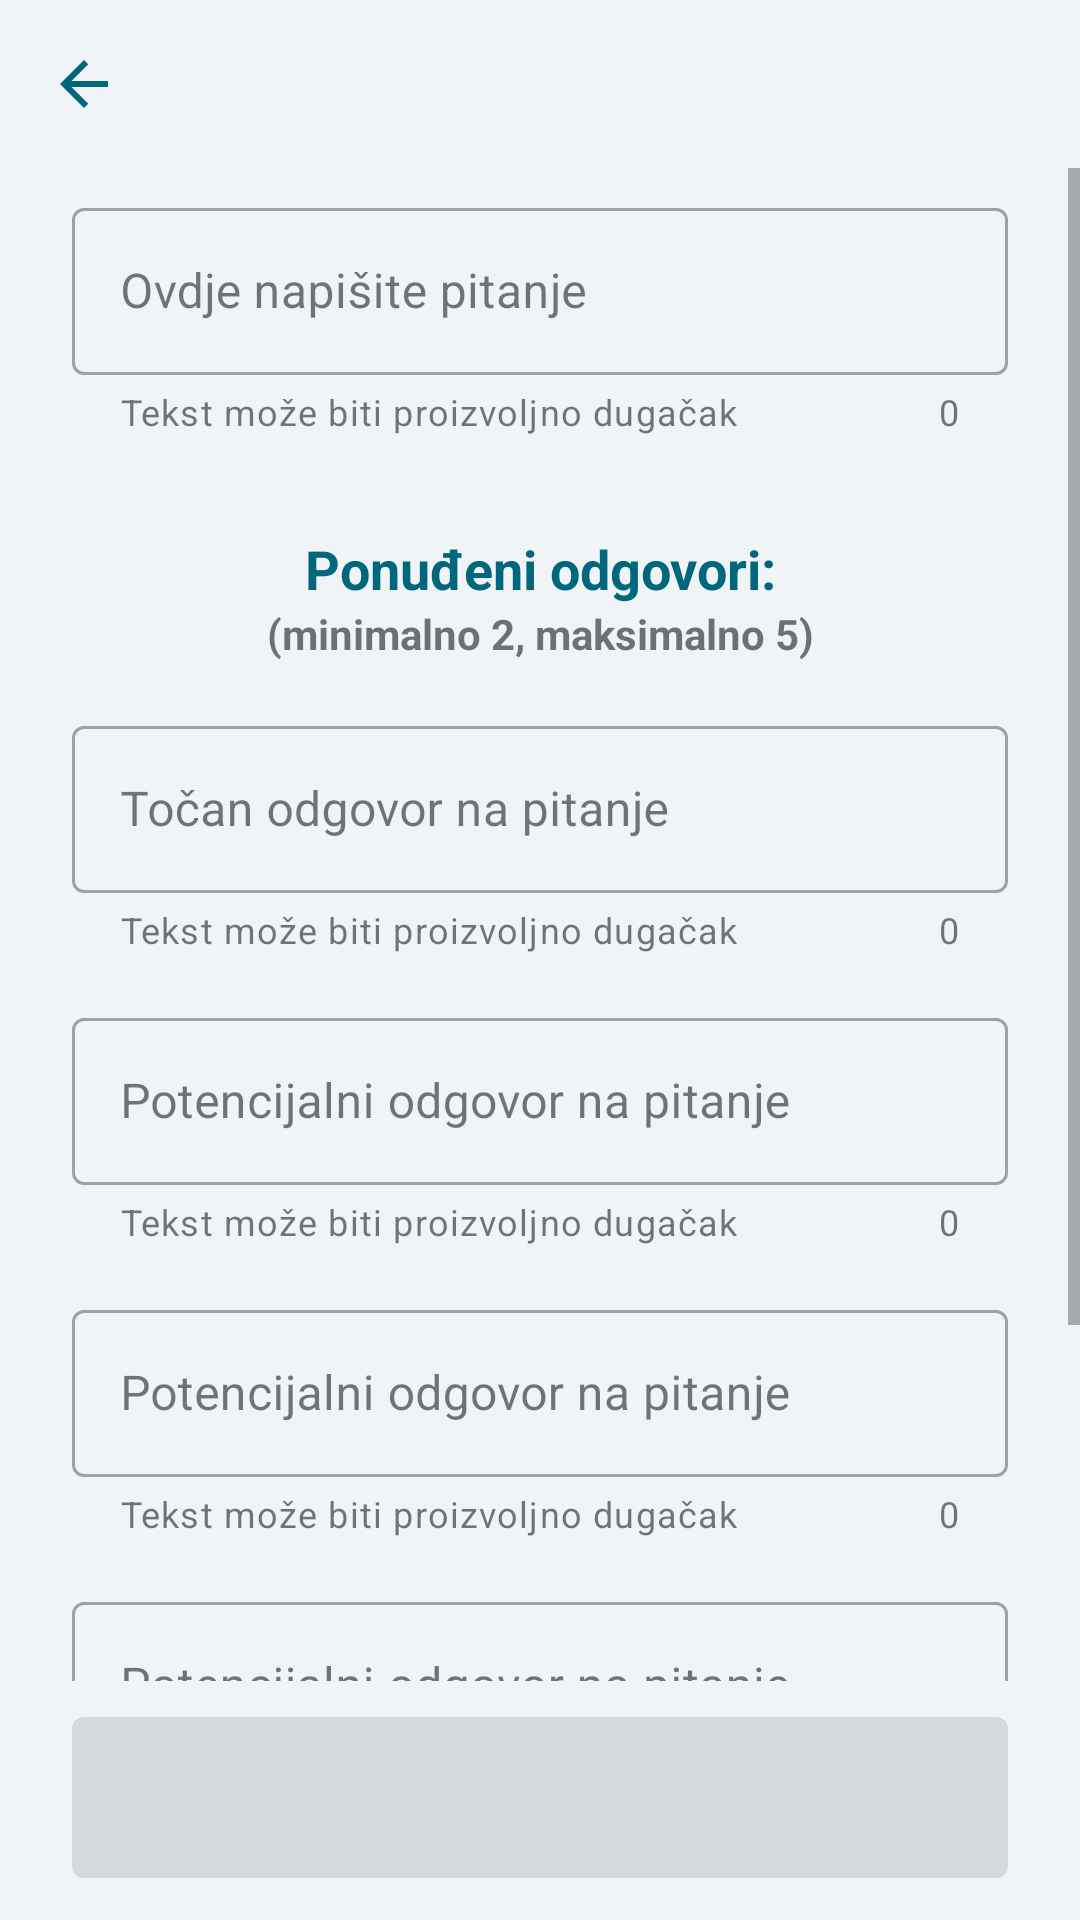

Where icons sit on this 1080 × 1920 app screen, as Rect(x1, y1, x2, y2):
arrow back: Rect(60, 60, 108, 108)
